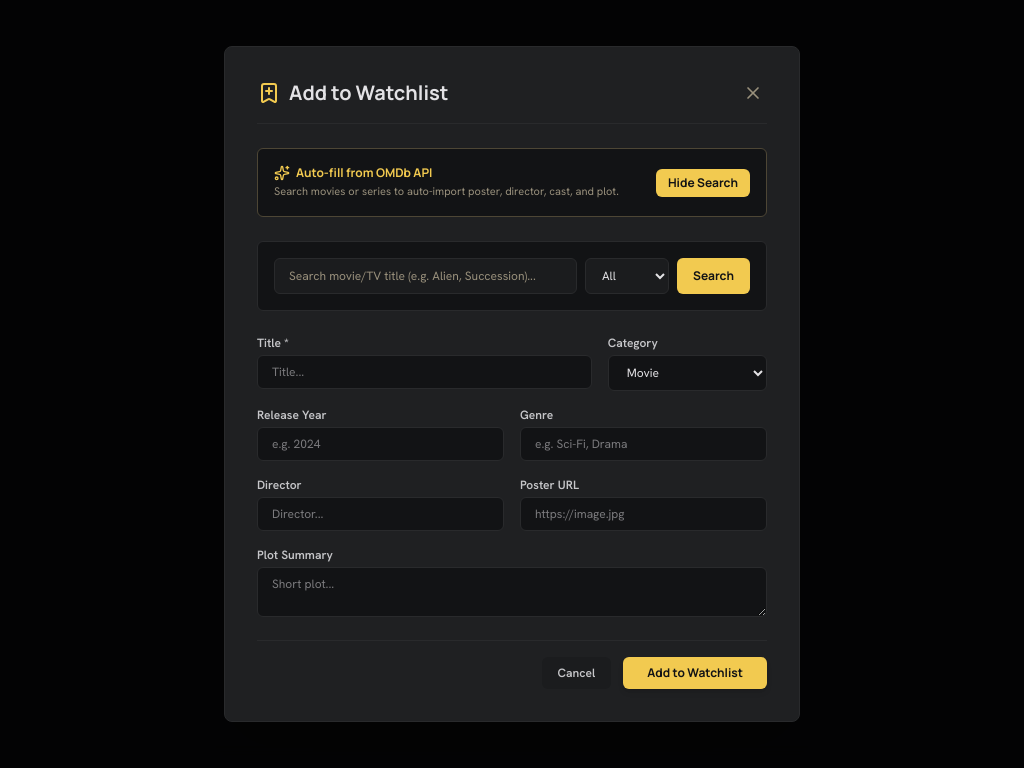
Scenario: AddWatchlistModal › displays error message when addToWatchlistAction fails
Type "Inception" into the field with placeholder "Title...".
click(424, 372); type("Inception")  # box [257,355,592,389]
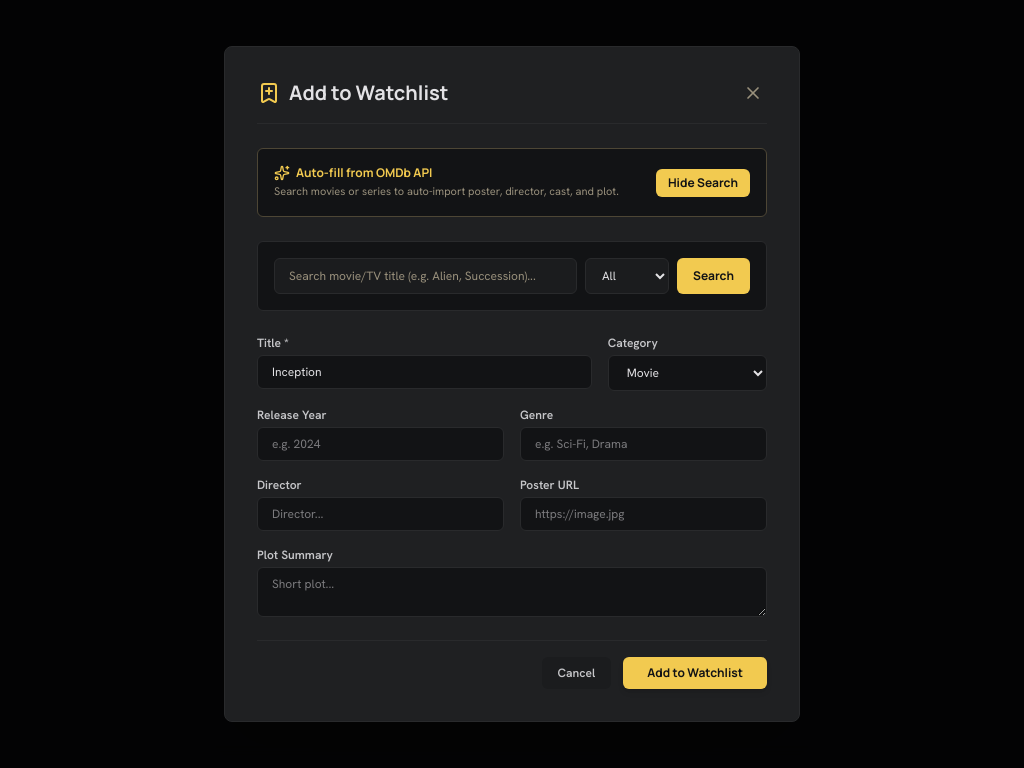
Submit the form named "add to watchlist", box [257,335,767,689]
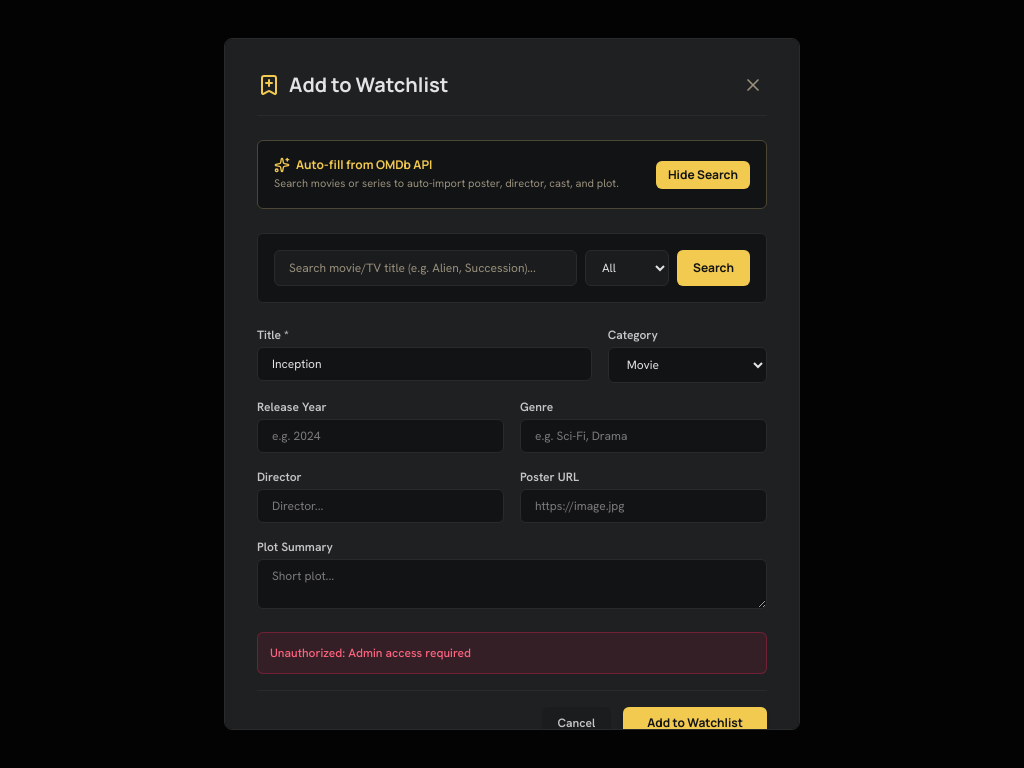
Expected: the text "Unauthorized: Admin access required" is shown, [257,632,767,674]
